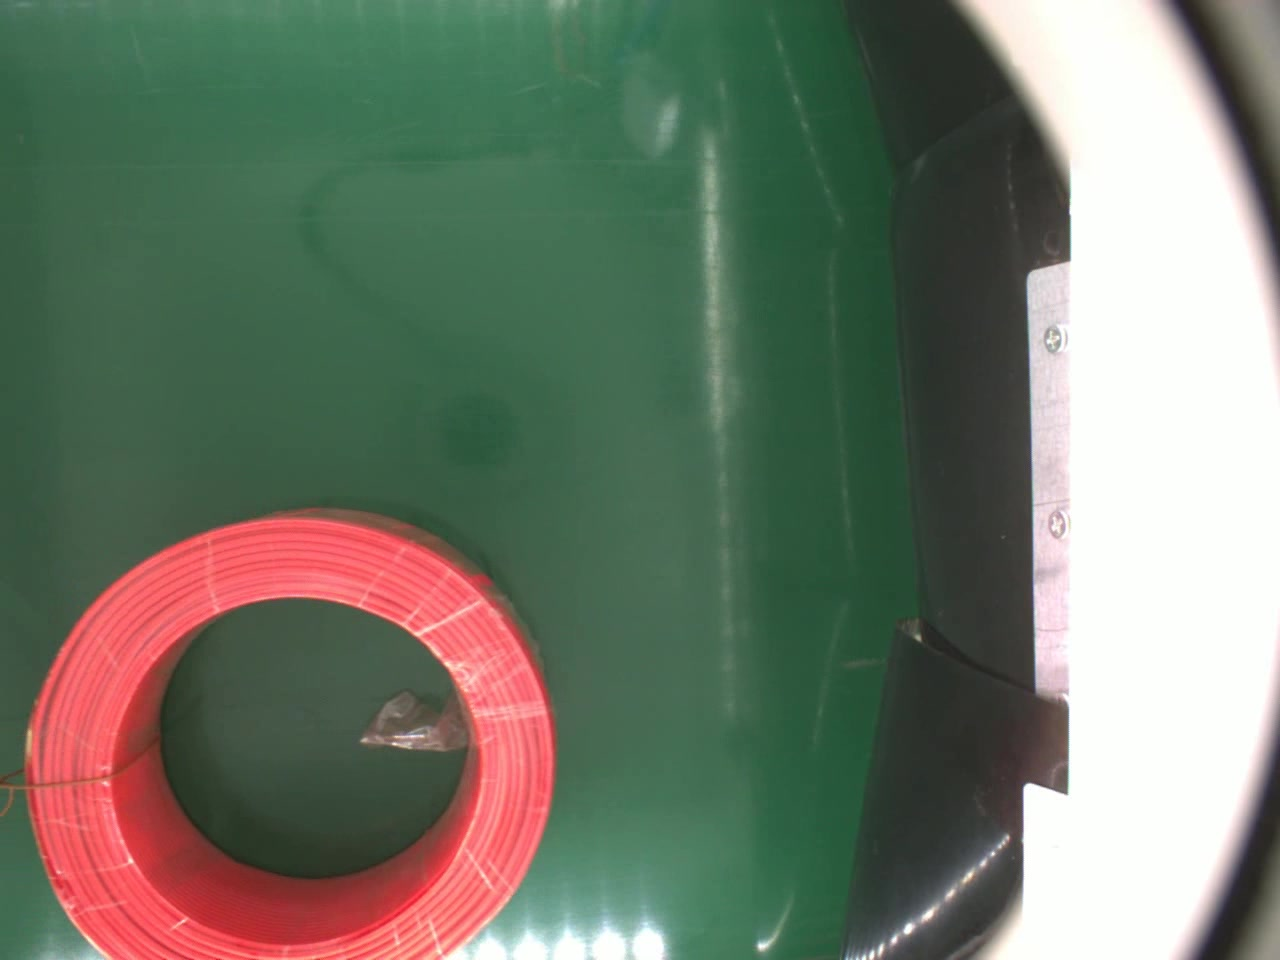red: (21, 504, 555, 960)
